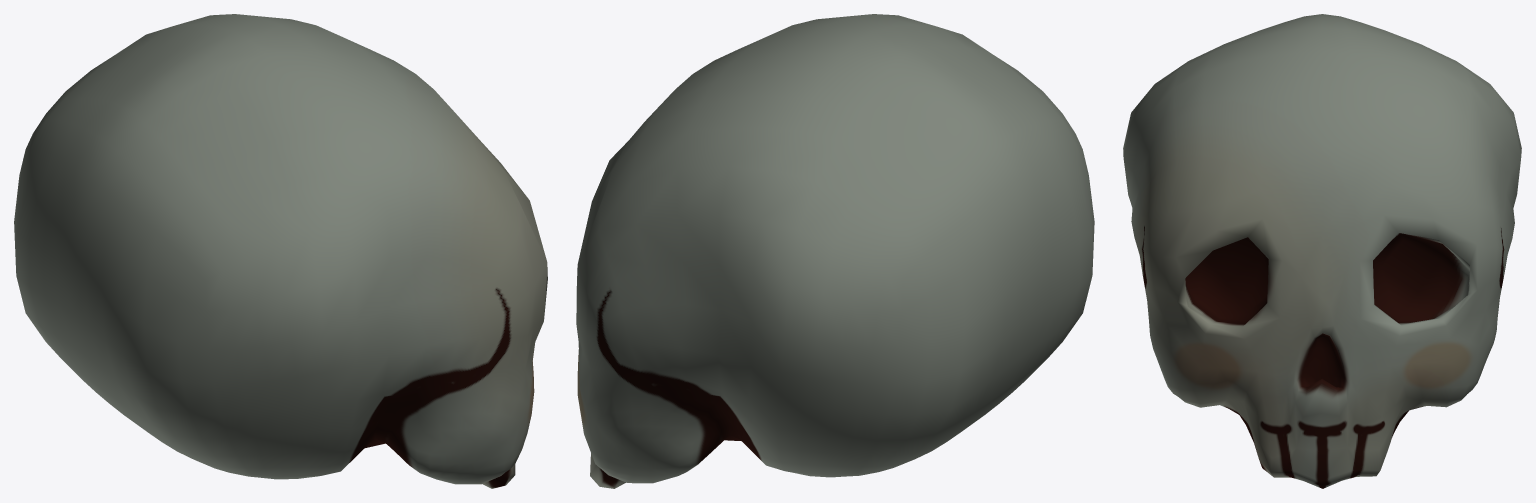
Rendered from Prop_skull.fbx.
3 renders of one model, left to right at view 1: azimuth 30°, elevation 25°; view 2: azimuth 150°, elevation 25°; view 3: azimuth 270°, elevation 25°, orthographic. The views are drawn at different scales.
Parts seen in each view (by area): view 1: Cube; view 2: Cube; view 3: Cube.
Boxes of the visible parts, x1,y1,x2,y2 form: Cube: [14, 14, 547, 488]; Cube: [576, 14, 1094, 488]; Cube: [1123, 14, 1521, 488].
Bounding box in the file's own units: 125 × 130 × 120.
